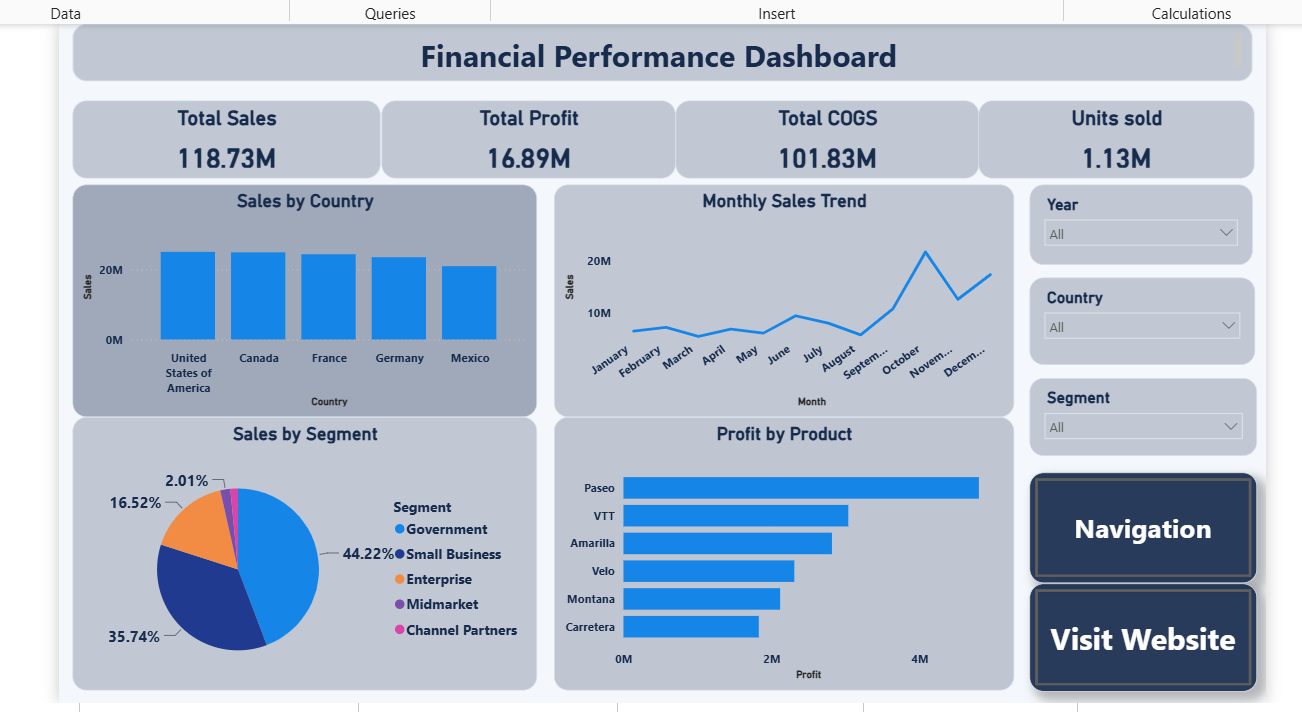

Layout of this report page (visuals, bound fields, positions):
{"tool":"powerbi","page":{"name":"Financial Overview","canvas":[1280,720],"ordinal":8},"visuals":[{"type":"textbox","box":[14.6,0,1251.2,61],"z":0},{"type":"card","title":"Total Sales","fields":{"Values":["Sum(financials. Sales)"]},"box":[14.6,80.5,326.8,82.9],"z":1000},{"type":"card","title":"Total Profit","fields":{"Values":["Sum(financials.Profit)"]},"box":[341.5,80.5,312.2,82.9],"z":2000},{"type":"card","title":"Total COGS","fields":{"Values":["Sum(financials.COGS)"]},"box":[653.7,80.5,322,82.9],"z":3000},{"type":"card","title":"Units sold","fields":{"Values":["Sum(financials.Units Sold)"]},"box":[975.6,80.5,292.7,82.9],"z":4000},{"type":"slicer","fields":{"Values":["financials.Year"]},"box":[1029.3,170.7,236.6,85.4],"z":5000},{"type":"slicer","fields":{"Values":["financials.Country"]},"box":[1029.3,268.3,239,92.7],"z":6000},{"type":"slicer","fields":{"Values":["financials.Segment"]},"box":[1029.3,375.6,241.5,82.9],"z":7000},{"type":"clusteredColumnChart","title":"Sales by Country","fields":{"Category":["financials.Country"],"Y":["Sum(financials. Sales)"]},"box":[14.6,170.7,492.7,246.3],"z":8000},{"type":"clusteredBarChart","title":"Profit by Product","fields":{"Category":["financials.Product"],"Y":["Sum(financials.Profit)"]},"box":[524.4,417.1,487.8,290.2],"z":9000},{"type":"lineChart","title":"Monthly Sales Trend","fields":{"Y":["Sum(financials. Sales)"],"Category":["financials.Date.Variation.Date Hierarchy.Month"]},"box":[524.4,170.7,487.8,246.3],"z":10000},{"type":"pieChart","title":"Sales by Segment","fields":{"Category":["financials.Segment"],"Y":["Sum(financials. Sales)"]},"box":[14.6,417.1,492.7,290.2],"z":11000},{"type":"actionButton","box":[1029.3,475.6,241.5,117.1],"z":12000},{"type":"actionButton","box":[1029.3,592.7,241.5,114.6],"z":13000}]}

Visuals, with their boxes in screenshot pixels (x1, y1, x2, y2):
textbox: <region>71, 20, 1248, 78</region>
"Total Sales" card: <region>71, 96, 379, 174</region>
"Total Profit" card: <region>379, 96, 673, 174</region>
"Total COGS" card: <region>673, 96, 975, 174</region>
"Units sold" card: <region>975, 96, 1251, 174</region>
slicer - financials.Year: <region>1026, 181, 1248, 261</region>
slicer - financials.Country: <region>1026, 273, 1251, 360</region>
slicer - financials.Segment: <region>1026, 374, 1253, 452</region>
"Sales by Country" clusteredColumnChart: <region>71, 181, 535, 413</region>
"Profit by Product" clusteredBarChart: <region>551, 413, 1010, 686</region>
"Monthly Sales Trend" lineChart: <region>551, 181, 1010, 413</region>
"Sales by Segment" pieChart: <region>71, 413, 535, 686</region>
actionButton: <region>1026, 468, 1253, 578</region>
actionButton: <region>1026, 578, 1253, 686</region>
